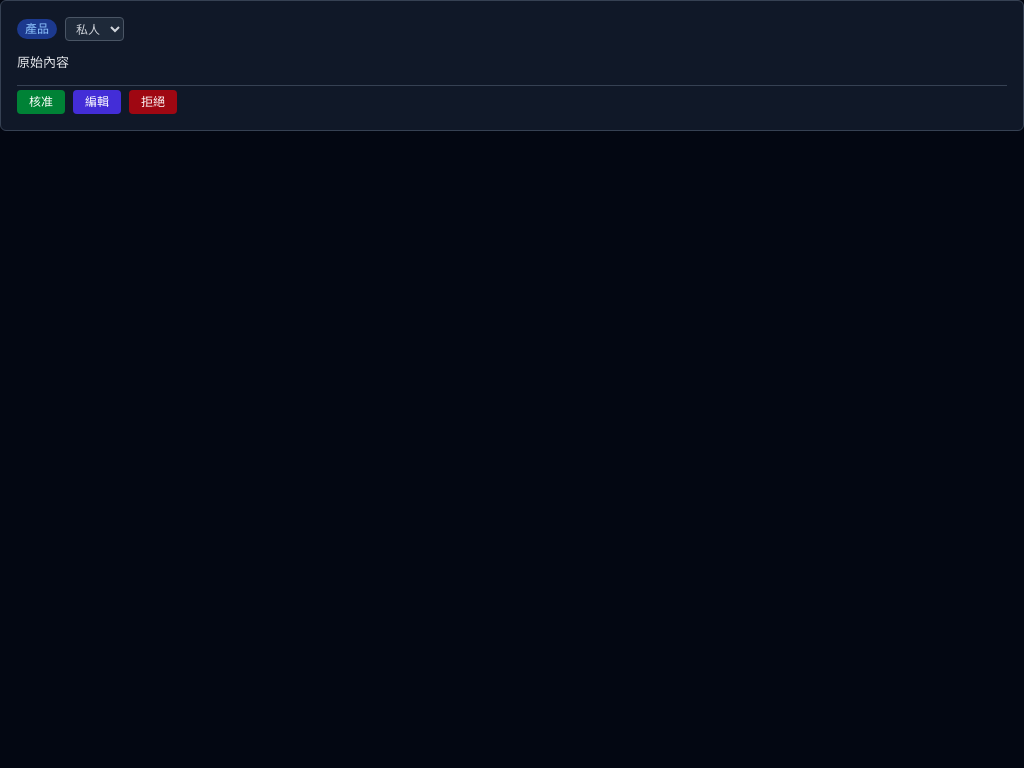
it: CandidateFactRow — reject confirm dialog › clicking reject opens confirm dialog
This screenshot has width=1024, height=768.
Click the button with test id "candidate-fact-reject-btn" at point(153, 102), box [129,90,177,114]
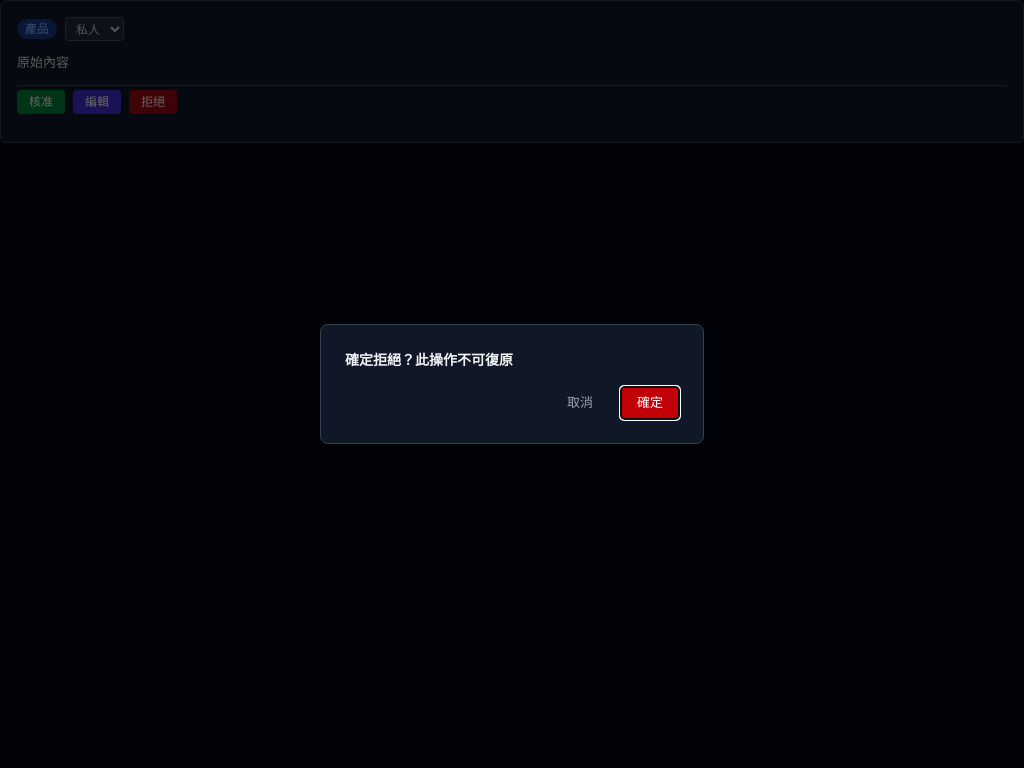
Result: the dialog is shown
Result: the heading "確定拒絕？此操作不可復原" is shown at [345,351,513,368]
